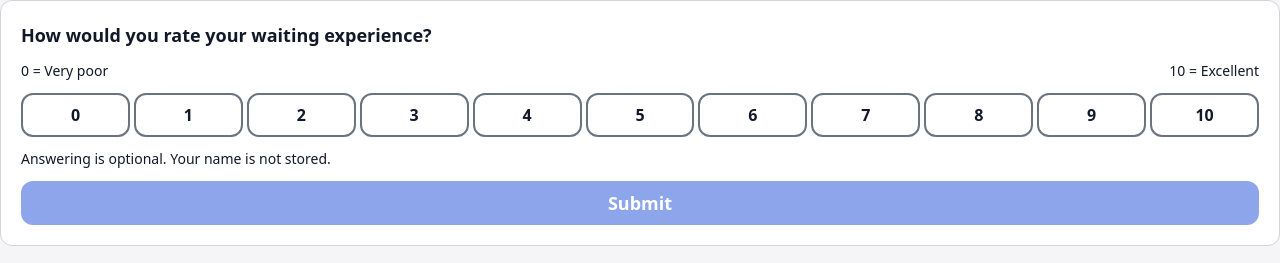
Test case: SurveyBox › says thank you and moves focus to it when the save worked, before the next read shows it
Step 1. Click the radio button labelled "8" → {"x": 979, "y": 115}, box [924, 93, 1033, 137]
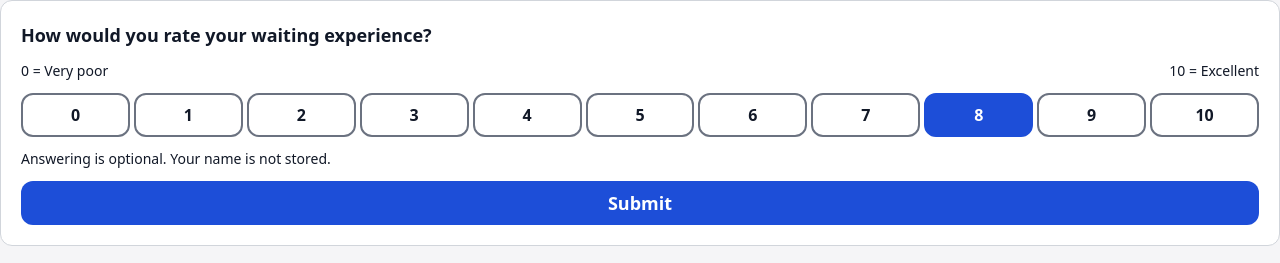
Step 2. Click the submit button → {"x": 640, "y": 203}, box [21, 181, 1259, 225]
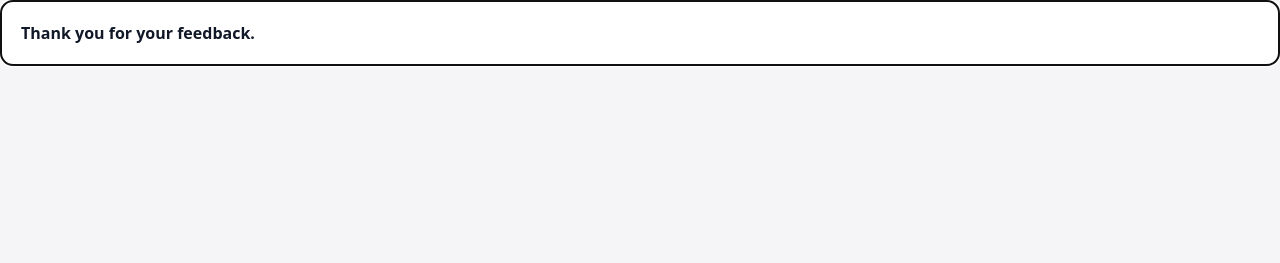
expect the message "Thank you for your feedback." is shown: met, box [0, 0, 1279, 66]
